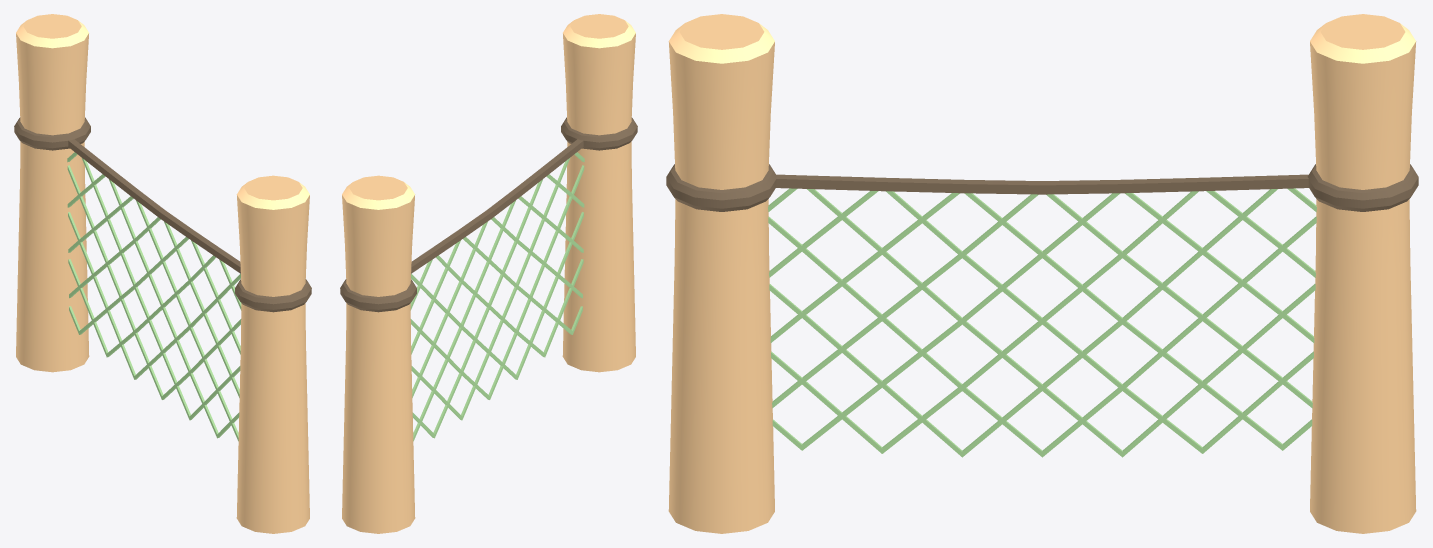
Rendered from RopeFence.fbx.
3 renders of one model, left to right at view 1: azimuth 30°, elevation 25°; view 2: azimuth 150°, elevation 25°; view 3: azimuth 270°, elevation 25°, orthographic. The views are drawn at different scales.
Parts seen in each view (by area): view 1: WoodPole, WoodPole2, RopeFenceNetting; view 2: WoodPole2, WoodPole, RopeFenceNetting; view 3: WoodPole, WoodPole2, RopeFenceNetting.
Part boxes in pixels (left/top/right/bottom): WoodPole: left=235, top=175, right=311, bottom=533; WoodPole2: left=14, top=14, right=90, bottom=372; RopeFenceNetting: left=67, top=139, right=241, bottom=441; WoodPole2: left=340, top=175, right=416, bottom=533; WoodPole: left=561, top=14, right=637, bottom=372; RopeFenceNetting: left=410, top=139, right=584, bottom=441; WoodPole: left=666, top=14, right=777, bottom=533; WoodPole2: left=1307, top=14, right=1418, bottom=533; RopeFenceNetting: left=768, top=174, right=1316, bottom=457.
Bounding box in the file's own units: 26.09 × 124 × 176.
